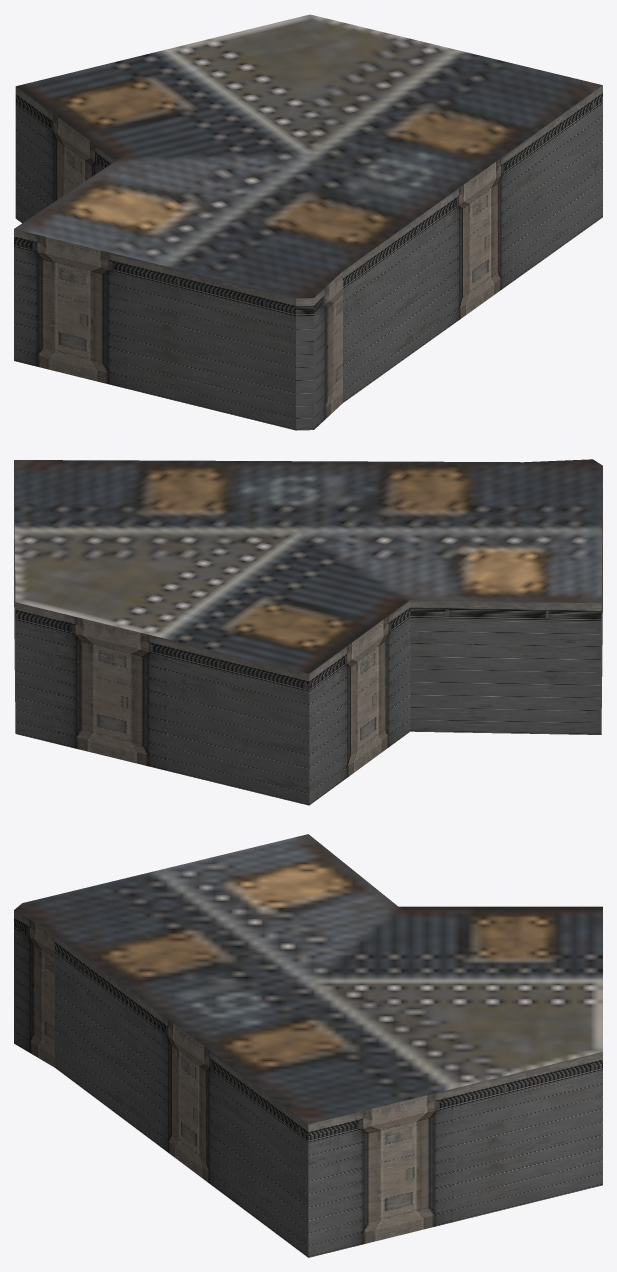
The model's file is hangar_medium_a_19.glb.
3 renders of one model, top to bottom at view 1: azimuth 30°, elevation 25°; view 2: azimuth 150°, elevation 25°; view 3: azimuth 270°, elevation 25°, orthographic.
Parts seen in each view (by area): view 1: buildings/saxarba/hangar_medium/hangar_medium_a_19; view 2: buildings/saxarba/hangar_medium/hangar_medium_a_19; view 3: buildings/saxarba/hangar_medium/hangar_medium_a_19.
Part boxes in pixels (x1=…): buildings/saxarba/hangar_medium/hangar_medium_a_19: x1=14, y1=14, x2=602, y2=430; buildings/saxarba/hangar_medium/hangar_medium_a_19: x1=14, y1=459, x2=602, y2=805; buildings/saxarba/hangar_medium/hangar_medium_a_19: x1=14, y1=834, x2=602, y2=1257.
Size of the model in its own units: 84 by 18 by 72.
